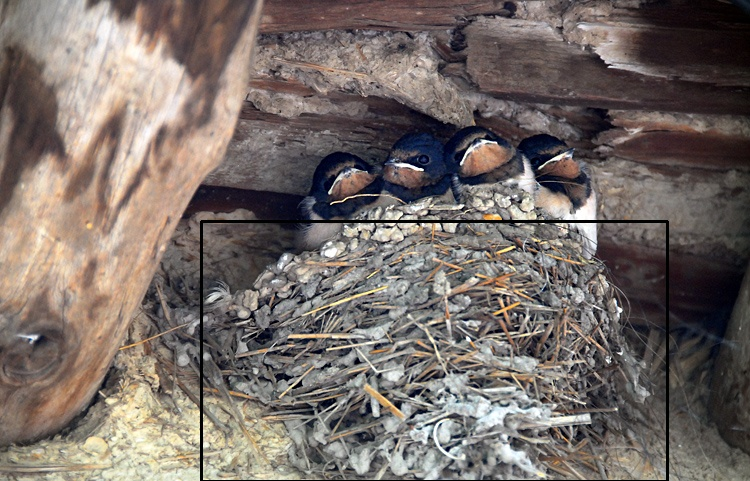bird-nest: (190, 187, 660, 481)
